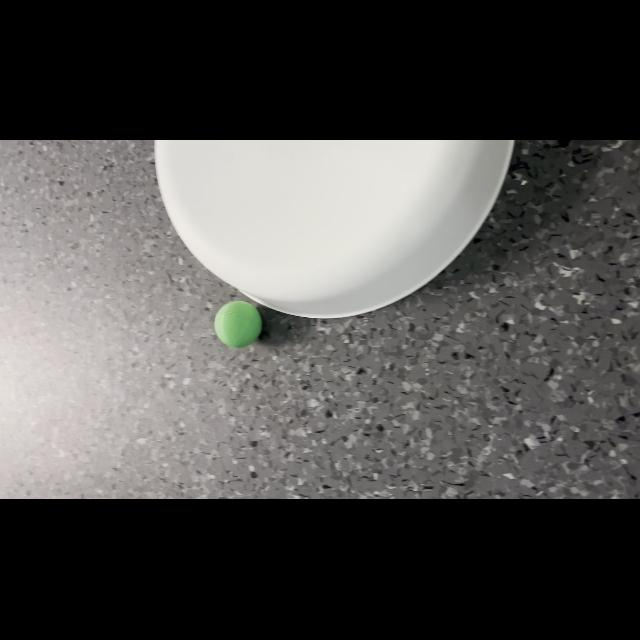objects: (209, 296, 265, 352)
